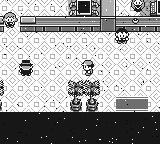main: (81, 61, 94, 75)
no-caminable: (0, 113, 160, 144), (36, 17, 100, 32), (68, 81, 99, 111), (68, 0, 98, 16), (100, 0, 115, 31), (146, 0, 160, 18), (20, 17, 35, 31), (116, 17, 130, 32), (147, 18, 160, 32)
npc: (2, 13, 17, 28), (115, 28, 129, 44), (18, 62, 33, 76), (130, 0, 145, 11)
puerta: (113, 97, 151, 112)
recuperarse: (131, 17, 148, 31)
